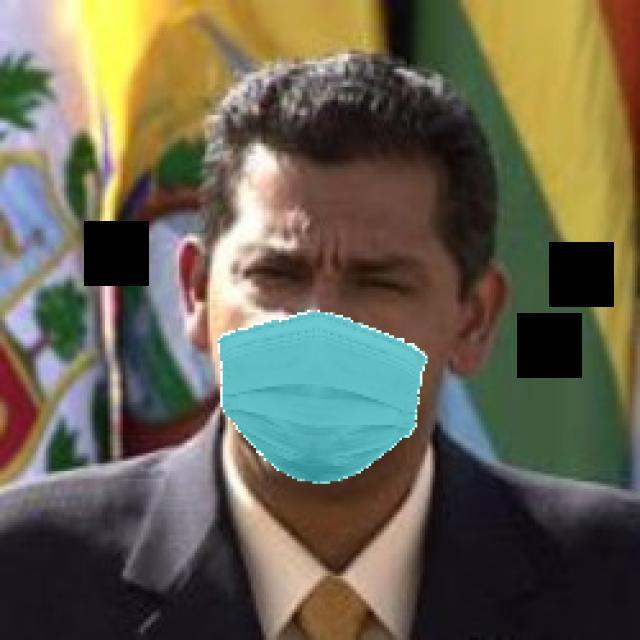surgical: (213, 154, 452, 483)
